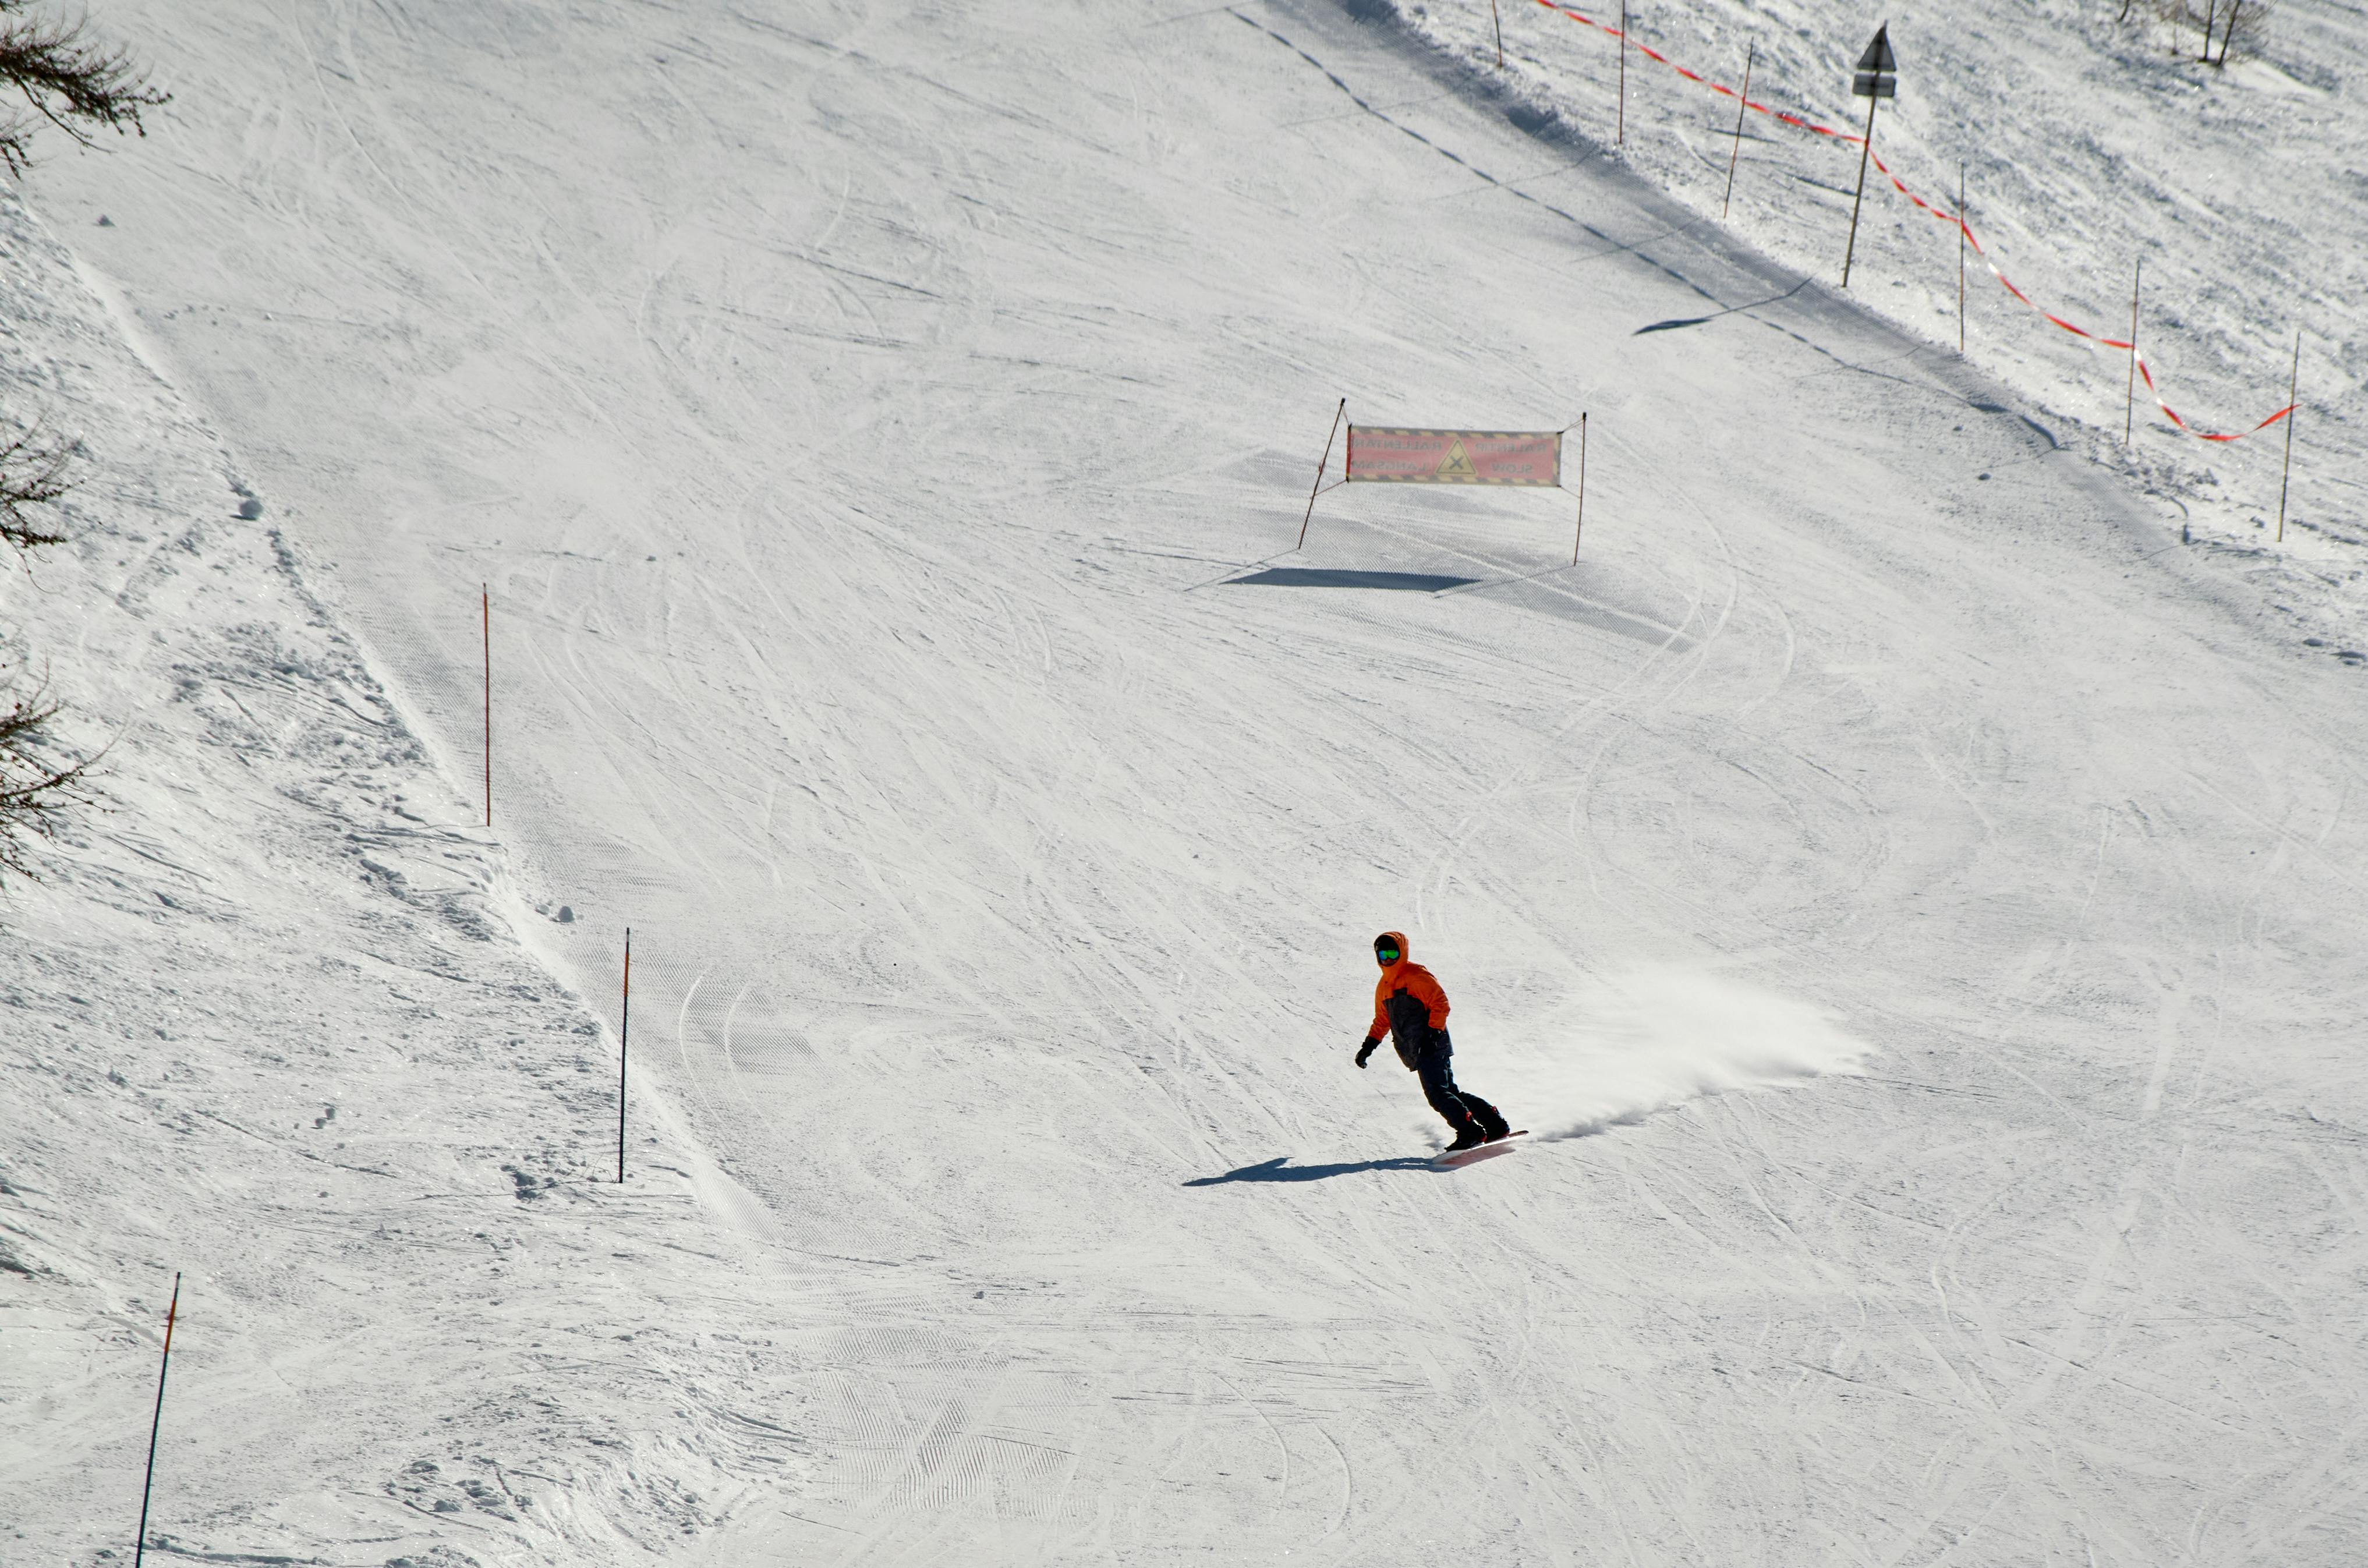snowboarder: (1346, 929, 1526, 1171)
